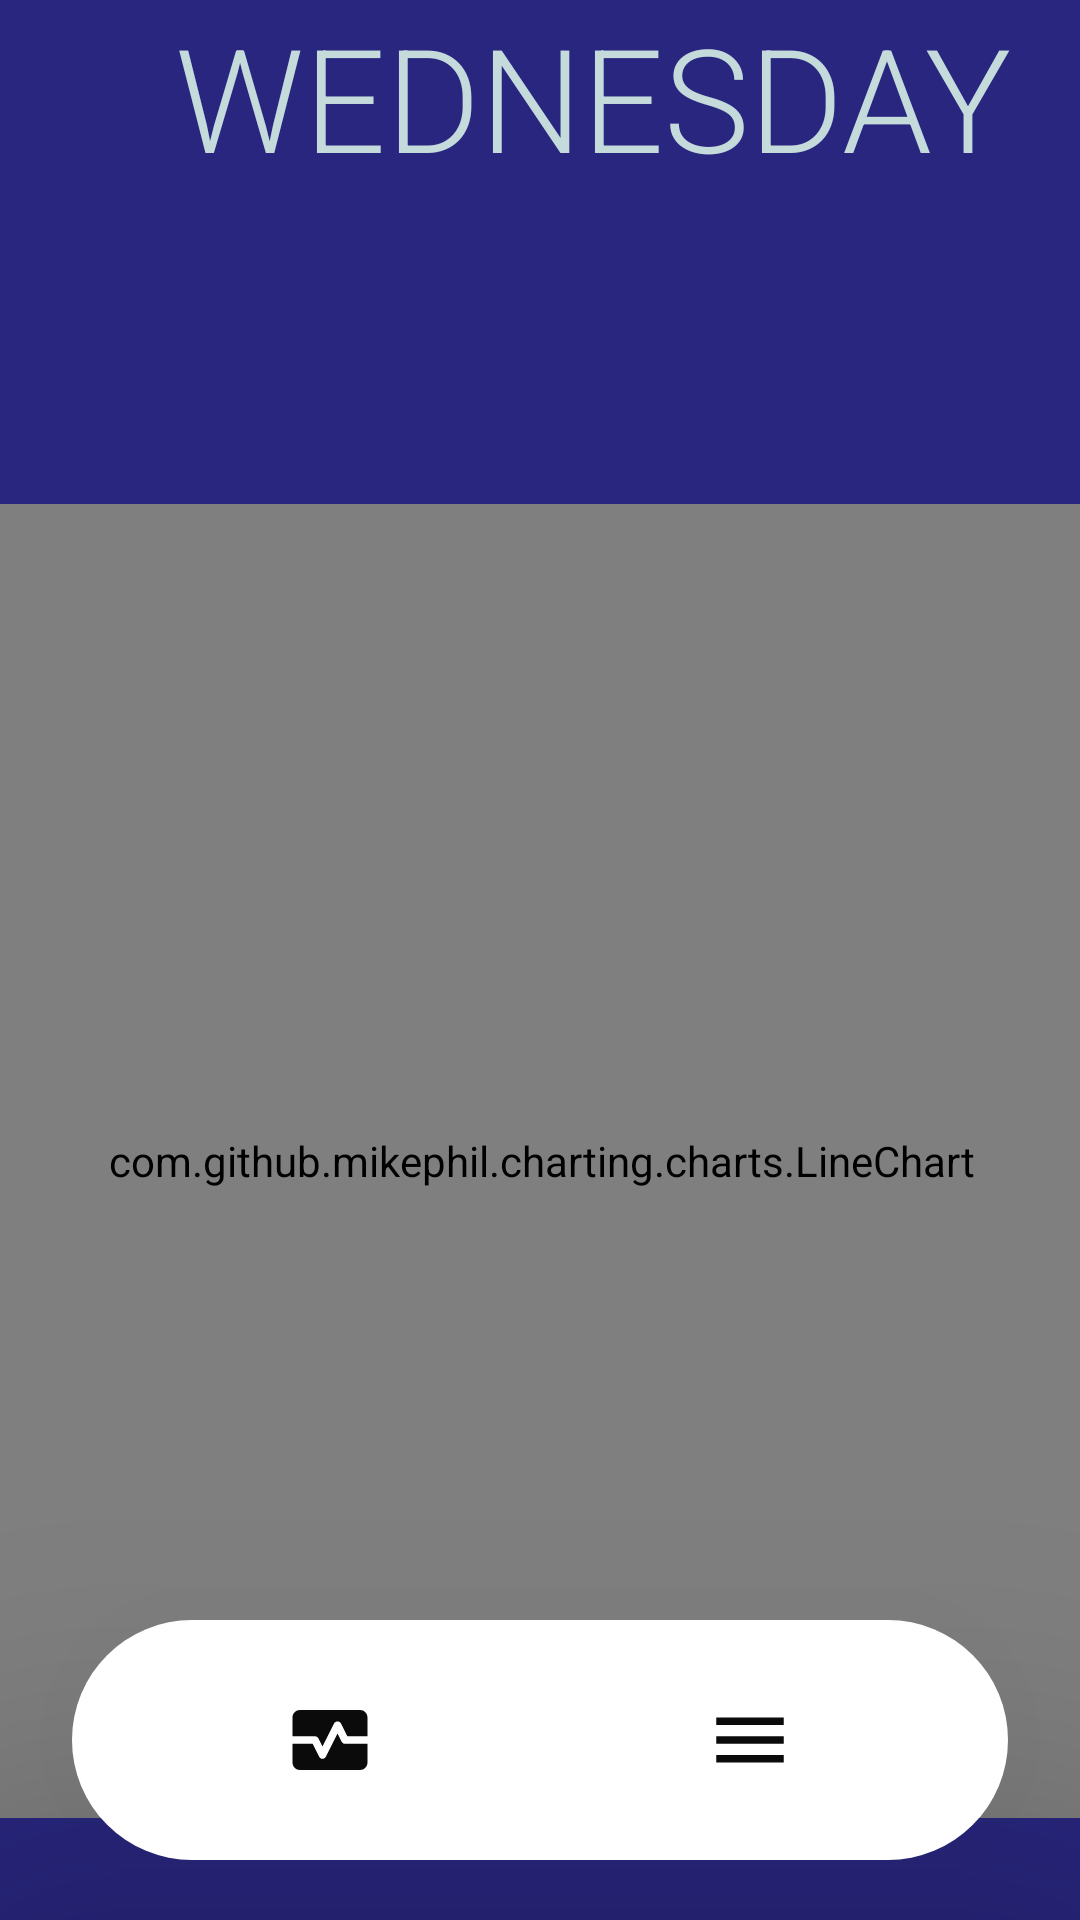

Screen size 1080*1920. Icon name, then its box in pixels as (x1, y1, x2, y2):
Menu: (716, 1717, 784, 1763)
Today's values: (292, 1710, 368, 1770)
